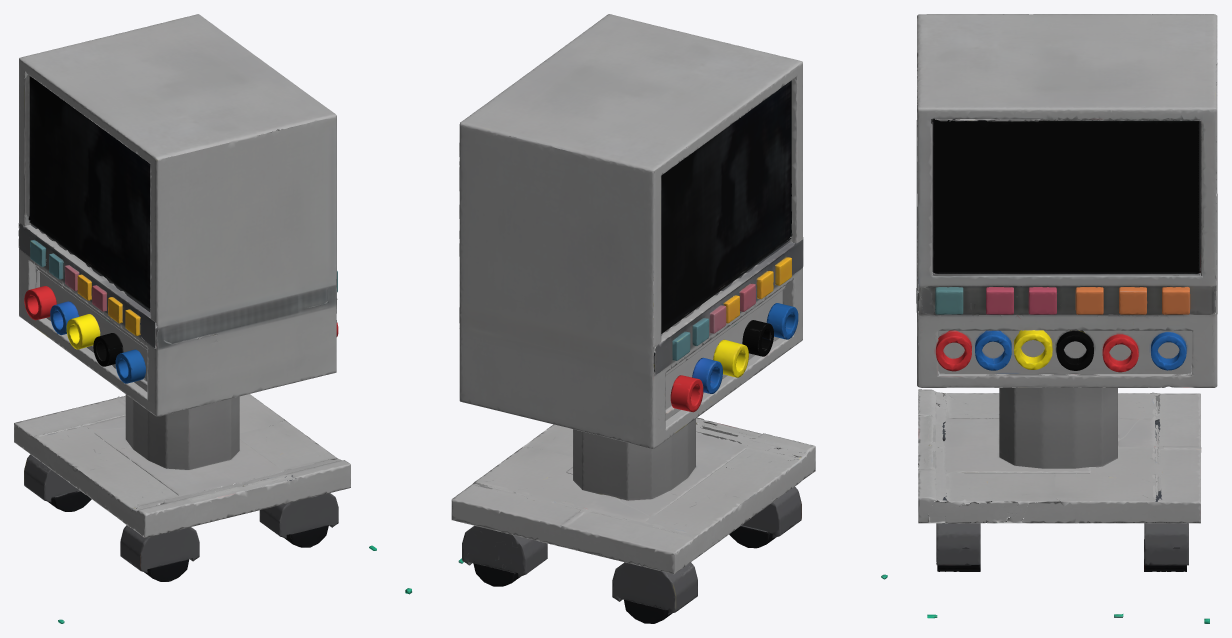
Rendered from ecg-cart.glb.
3 views of the same model, side by side, from view 1: azimuth 30°, elevation 25°; view 2: azimuth 150°, elevation 25°; view 3: azimuth 270°, elevation 25° (orthographic). The views are drawn at different scales.
Parts seen in each view (by area): view 1: geometry_0; view 2: geometry_0; view 3: geometry_0.
Part boxes in pixels (x1,y1,x2,y2): geometry_0: (14, 14, 376, 623); geometry_0: (405, 14, 887, 623); geometry_0: (916, 14, 1217, 623).
Bounding box in the file's own units: 0.7431 × 0.9999 × 0.5605.
Materials: 1 (1 with a texture image).
